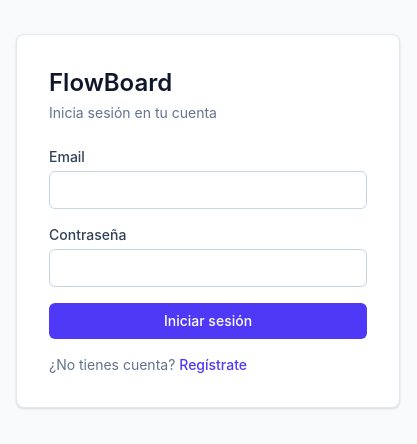
Test case: Login › muestra el mensaje de error si el login falla, sin navegar
Type "test@example.com" into the field labelled "Email" at x=208, y=190, box [49,171,367,209]
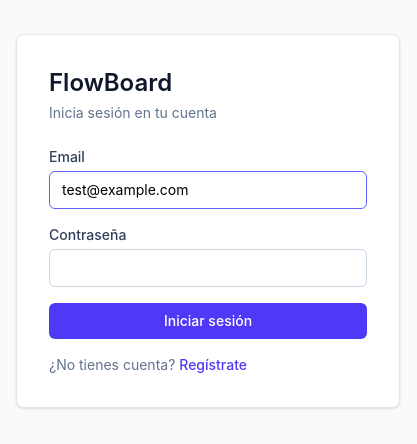
Type "contraseñaIncorrecta" into the password field labelled "Contraseña" at x=208, y=268, box [49,249,367,287]
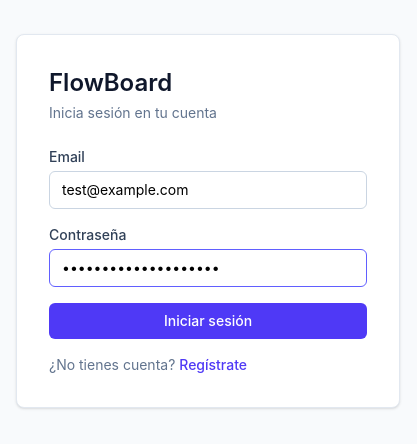
Click the button "Iniciar sesión" at x=208, y=321, box [49,303,367,339]
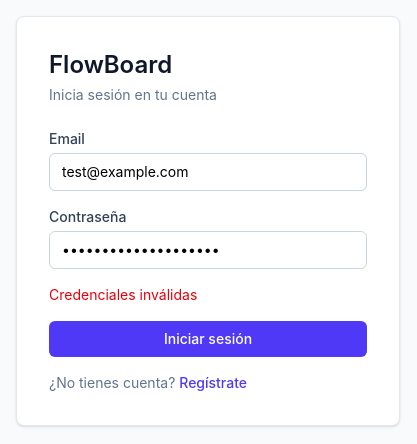
Now the text "Credenciales inválidas" is shown, box [49,286,197,303]
